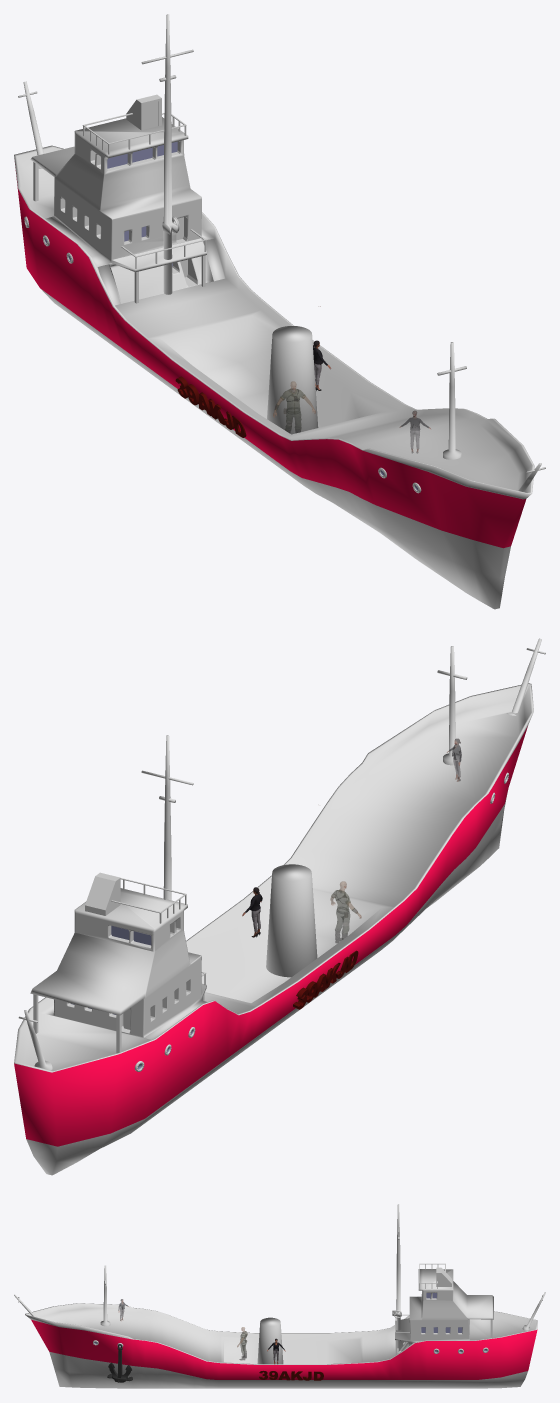
Rendered from D4_Ship7.glb.
3 renders of one model, top to bottom at view 1: azimuth 30°, elevation 25°; view 2: azimuth 150°, elevation 25°; view 3: azimuth 270°, elevation 25°, orthographic. The views are drawn at different scales.
Parts seen in each view (by area): view 1: Object_6, Object_2, Cylinder, Text.001, Clotch_up, Object_4; view 2: Object_6, Object_2, Cylinder, Text.001, Clotch_up; view 3: Object_6, Object_2, Cylinder, Text, osnova_low.
Part boxes in pixels (bbox=[...]): Object_6: bbox=[14, 14, 545, 609]; Object_2: bbox=[15, 164, 526, 548]; Cylinder: bbox=[267, 326, 318, 434]; Text.001: bbox=[175, 376, 246, 437]; Clotch_up: bbox=[273, 306, 320, 433]; Object_4: bbox=[26, 141, 418, 490]; Object_6: bbox=[14, 638, 545, 1175]; Object_2: bbox=[14, 726, 527, 1146]; Cylinder: bbox=[266, 864, 317, 977]; Text.001: bbox=[293, 950, 358, 1009]; Clotch_up: bbox=[330, 881, 361, 943]; Object_6: bbox=[14, 1204, 545, 1388]; Object_2: bbox=[31, 1319, 537, 1379]; Cylinder: bbox=[257, 1317, 283, 1364]; Text: bbox=[259, 1370, 323, 1380]; osnova_low: bbox=[107, 1362, 132, 1382].
Bounding box in the file's own units: 6.52 × 16.34 × 43.39.
Materials: 16 (10 with a texture image).
